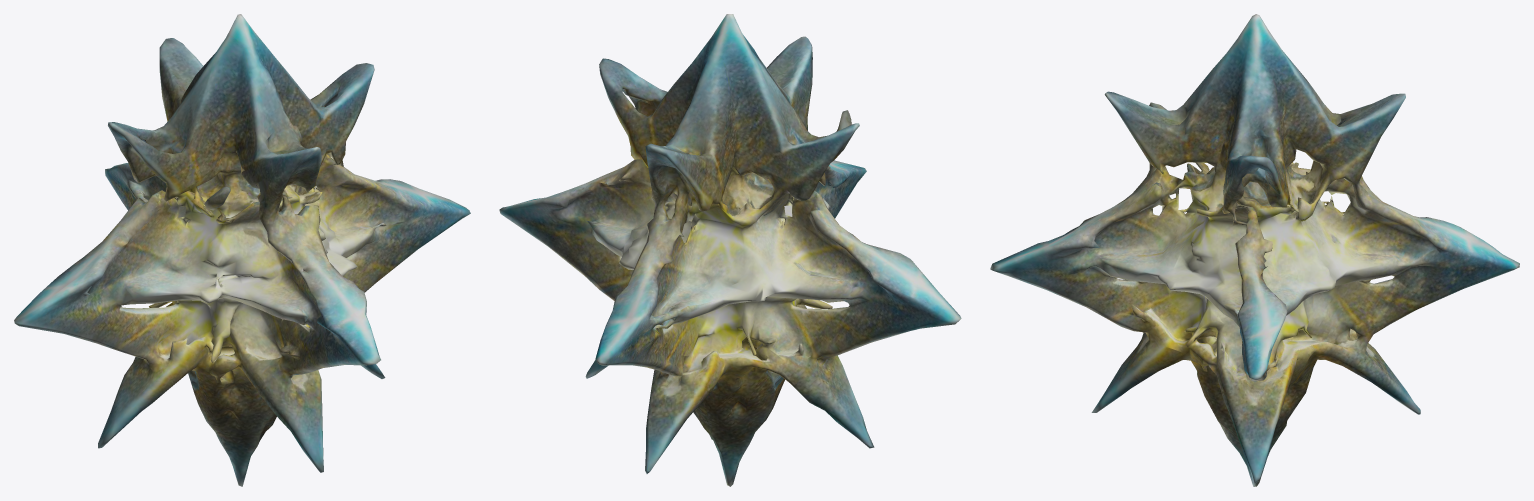
File: 46d306c328f2_a_bright_rounded_st.fbx
The picture shows the model from 3 angles, left to right: view 1: azimuth 30°, elevation 25°; view 2: azimuth 150°, elevation 25°; view 3: azimuth 270°, elevation 25°; orthographic projection.
Parts seen in each view (by area): view 1: mesh; view 2: mesh; view 3: mesh.
Part boxes in pixels (box(x1,y1,x2,y2)): mesh: box(14, 14, 470, 486); mesh: box(499, 14, 961, 486); mesh: box(990, 14, 1519, 486).
Bounding box in the file's own units: 99.78 × 98.33 × 100.
